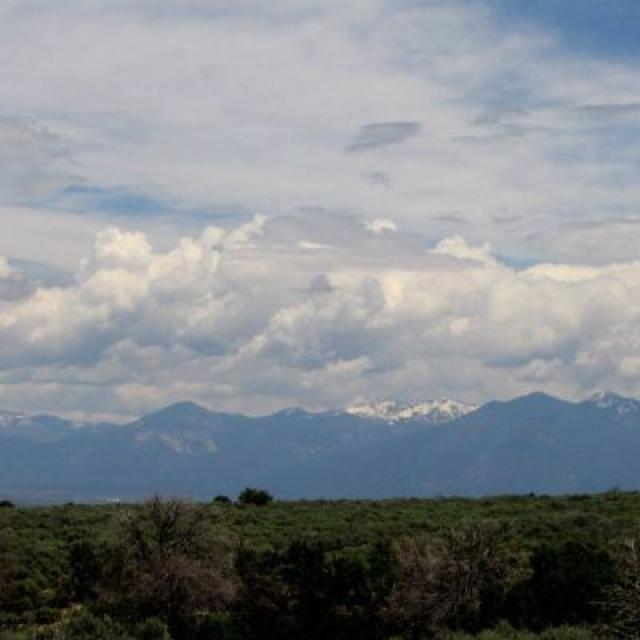Cs: (1, 104, 640, 386)
